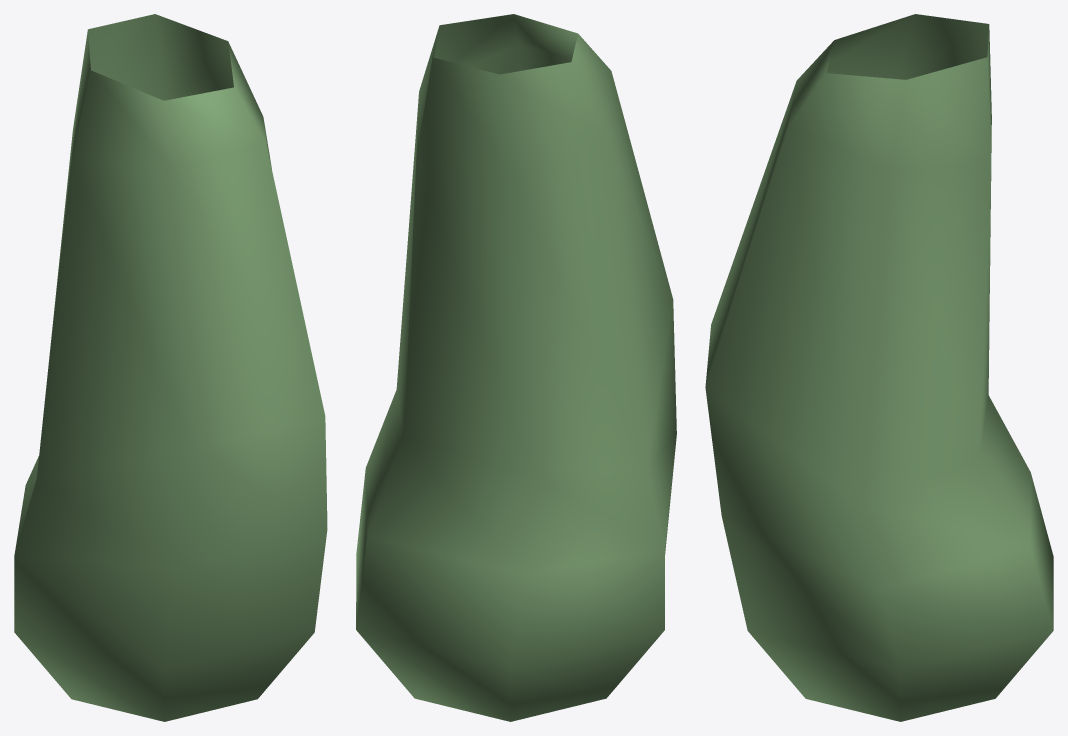
File: Tallo_6.fbx
3 renders of one model, left to right at view 1: azimuth 30°, elevation 25°; view 2: azimuth 150°, elevation 25°; view 3: azimuth 270°, elevation 25°, orthographic. The views are drawn at different scales.
Parts seen in each view (by area): view 1: Tallo_6; view 2: Tallo_6; view 3: Tallo_6.
Part boxes in pixels (box(x1,y1,x2,y2)): Tallo_6: box(14, 14, 327, 721); Tallo_6: box(356, 14, 676, 721); Tallo_6: box(705, 14, 1053, 721).
Size of the model in its own units: 0.5276 by 1.05 by 0.52.
